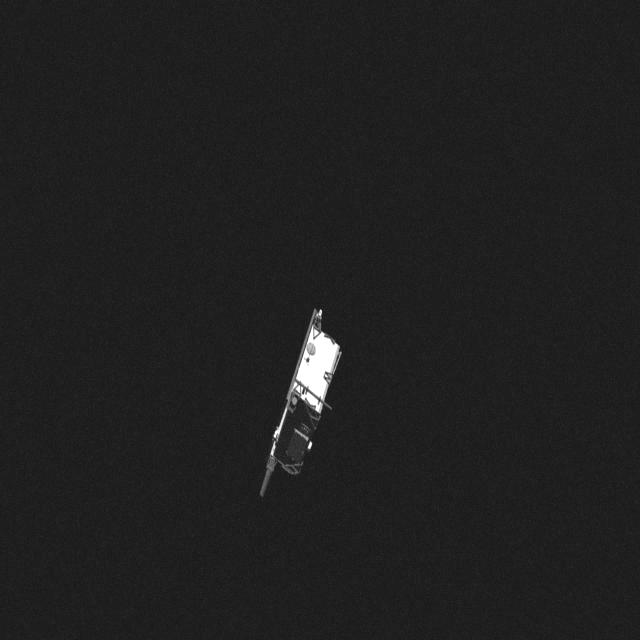satellite: (252, 308, 350, 508)
